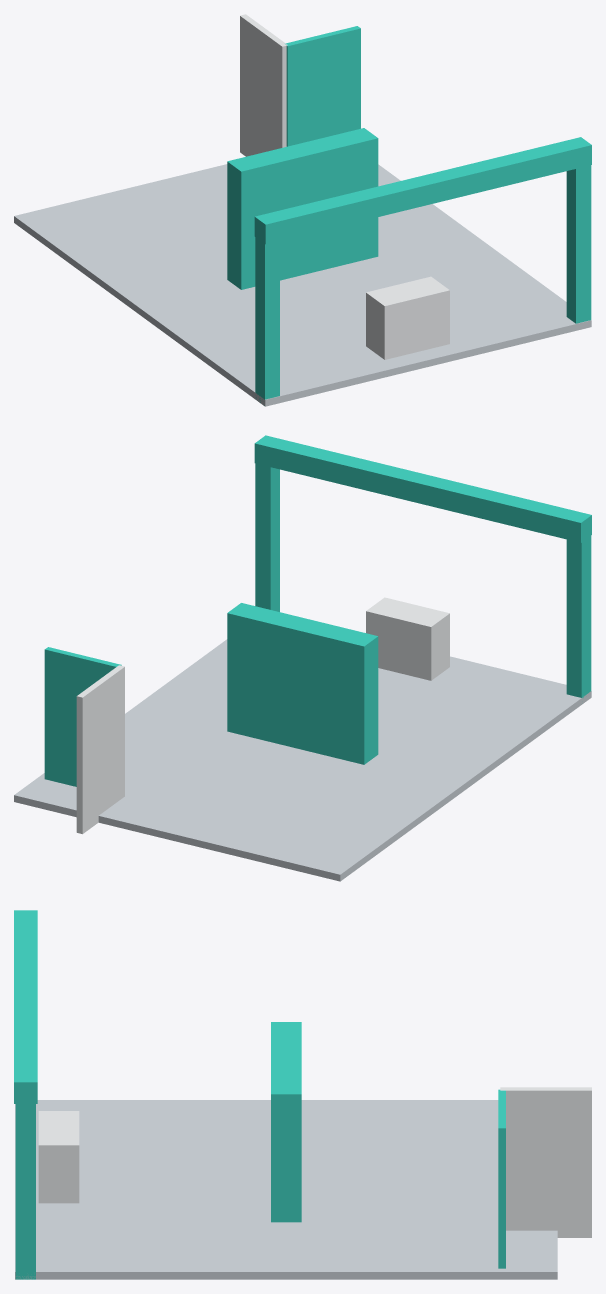
3 renders of one model, top to bottom at view 1: azimuth 30°, elevation 25°; view 2: azimuth 150°, elevation 25°; view 3: azimuth 270°, elevation 25°, orthographic. The views are drawn at different scales.
Visible parts, largest first — view 1: Exhibition Booth Concept; view 2: Exhibition Booth Concept; view 3: Exhibition Booth Concept.
Boxes of the visible parts, <box> form: Exhibition Booth Concept: <box>14,14,591,406</box>; Exhibition Booth Concept: <box>14,435,591,881</box>; Exhibition Booth Concept: <box>14,910,591,1279</box>.
Size of the model in its own units: 6 by 3.2 by 8.52.
